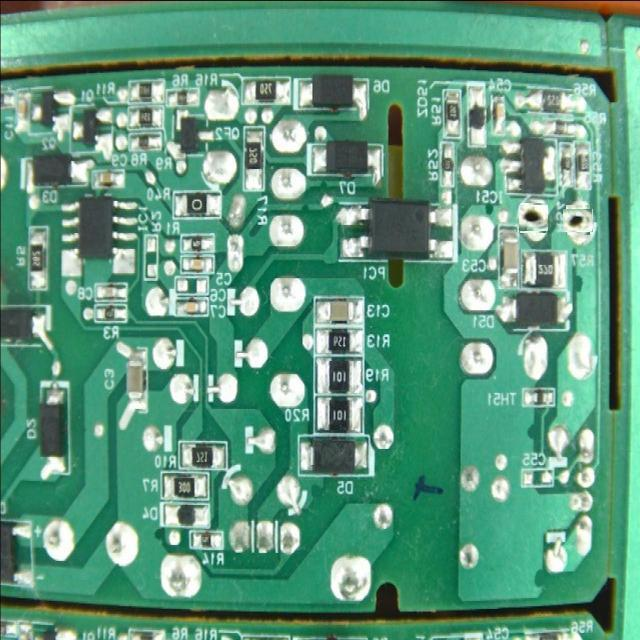damged: (520, 204, 548, 232), (564, 207, 592, 234)
